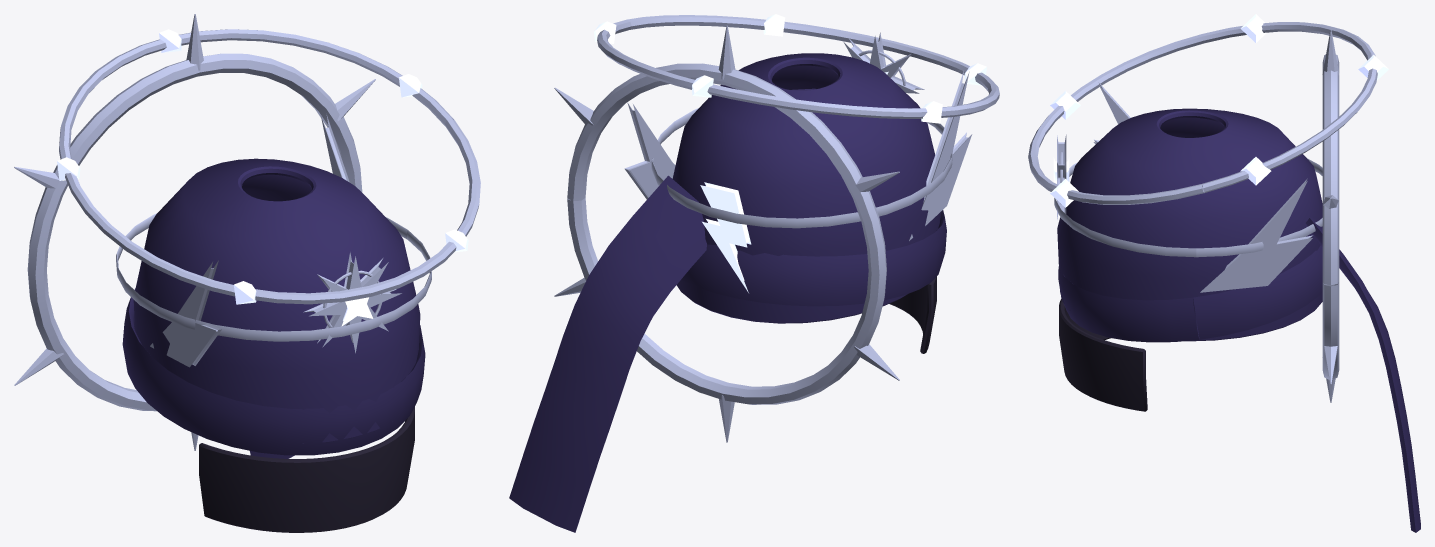
The model's file is asc_meteor_marksman_helm.glb.
3 views of the same model, side by side, from view 1: azimuth 30°, elevation 25°; view 2: azimuth 150°, elevation 25°; view 3: azimuth 270°, elevation 25° (orthographic). The views are drawn at different scales.
Parts seen in each view (by area): view 1: asc_meteor_marksman_helm; view 2: asc_meteor_marksman_helm; view 3: asc_meteor_marksman_helm.
Boxes of the visible parts, x1,y1,x2,y2 form: asc_meteor_marksman_helm: (14, 14, 480, 532); asc_meteor_marksman_helm: (509, 14, 999, 532); asc_meteor_marksman_helm: (1028, 14, 1420, 532).
Size of the model in its own units: 0.5126 by 0.6929 by 0.5541.
